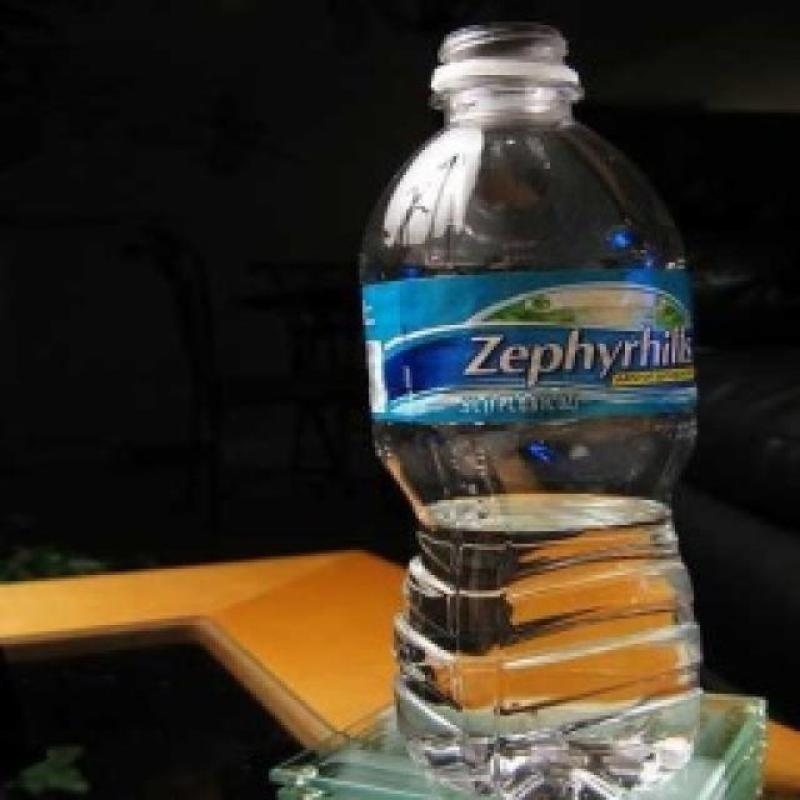botella: (358, 17, 708, 792)
